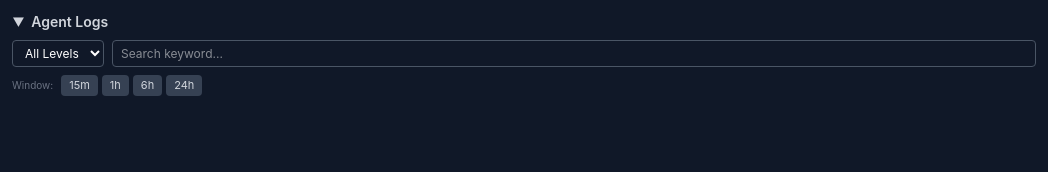
Test: LogExplorer › clearing the time window drops it and reads from the start without one
Click the button "1h": (115, 85) [102,75,129,96]
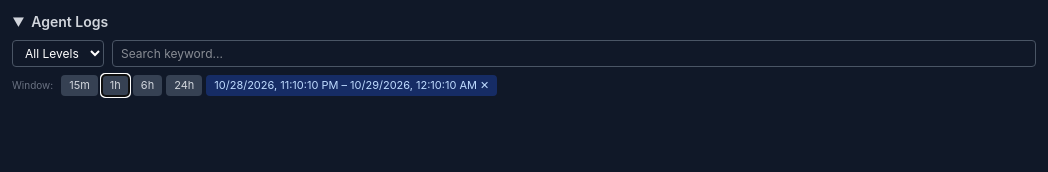
Click the button "10/28/2026, 11:10:10 PM – 10/29/2026, 12:10:10 AM ✕": (352, 85) [206,75,497,96]
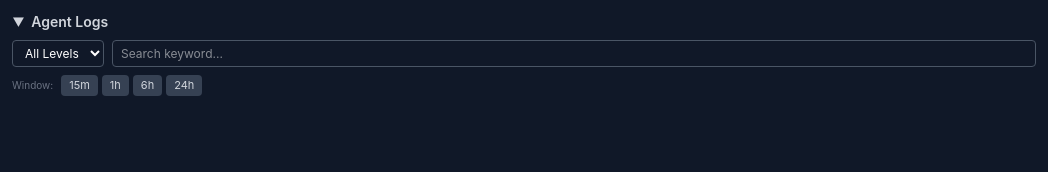
Expected: the button "✕" is gone
